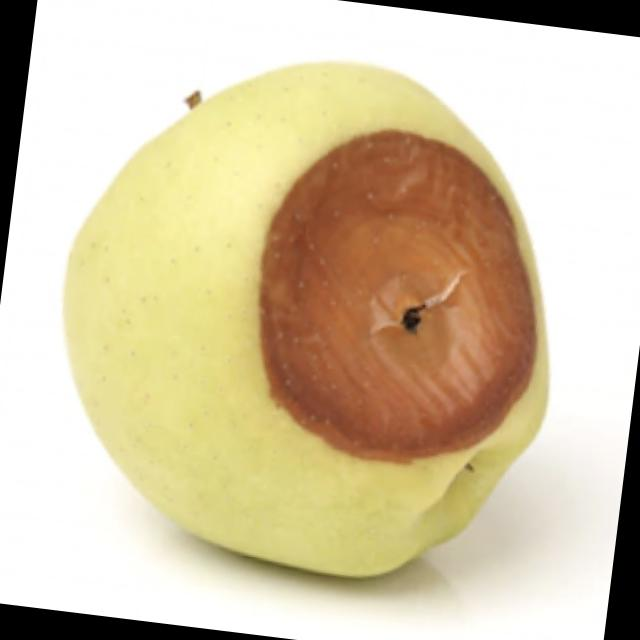rotten_apple: (29, 26, 586, 604)
